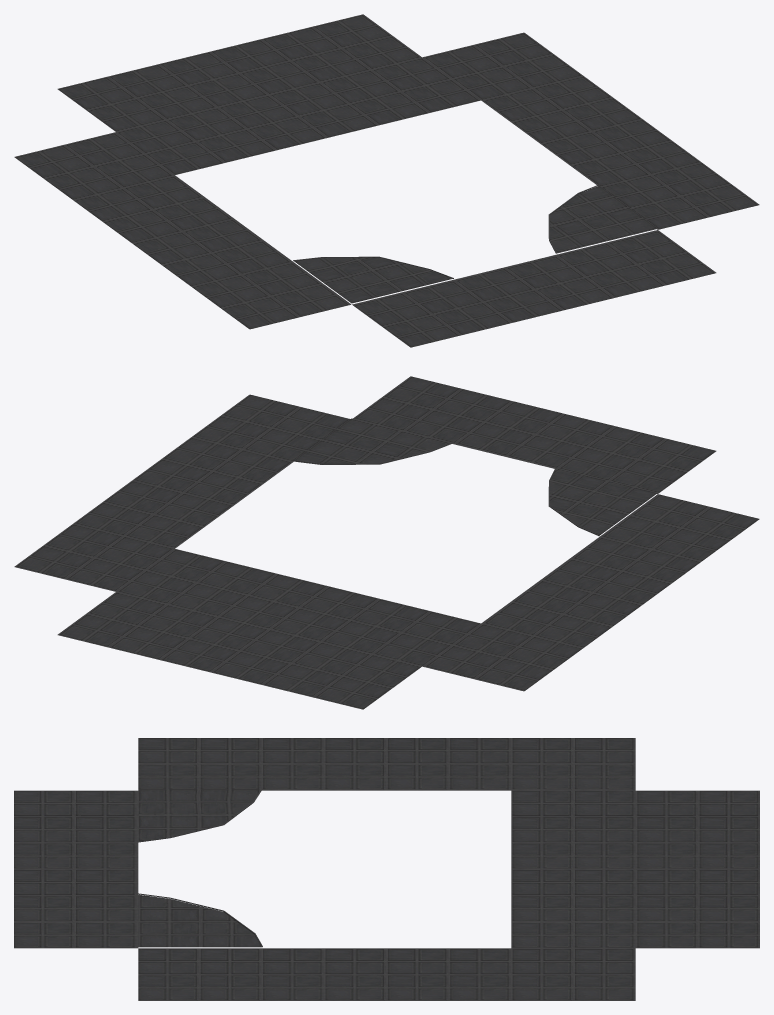
File: Homeworld_Interior_Dq_Room_P_Ceiling_01_Vo.fbx
3 renders of one model, top to bottom at view 1: azimuth 30°, elevation 25°; view 2: azimuth 150°, elevation 25°; view 3: azimuth 270°, elevation 25°, orthographic. The views are drawn at different scales.
Parts seen in each view (by area): view 1: Homeworld_Interior_Dq_Room_P_Ceiling_01_Vo; view 2: Homeworld_Interior_Dq_Room_P_Ceiling_01_Vo; view 3: Homeworld_Interior_Dq_Room_P_Ceiling_01_Vo.
Part boxes in pixels (x1=…): Homeworld_Interior_Dq_Room_P_Ceiling_01_Vo: x1=14, y1=14, x2=759, y2=347; Homeworld_Interior_Dq_Room_P_Ceiling_01_Vo: x1=14, y1=376, x2=759, y2=709; Homeworld_Interior_Dq_Room_P_Ceiling_01_Vo: x1=14, y1=738, x2=759, y2=1000.
Size of the model in its own units: 25 by 0.1056 by 30.
